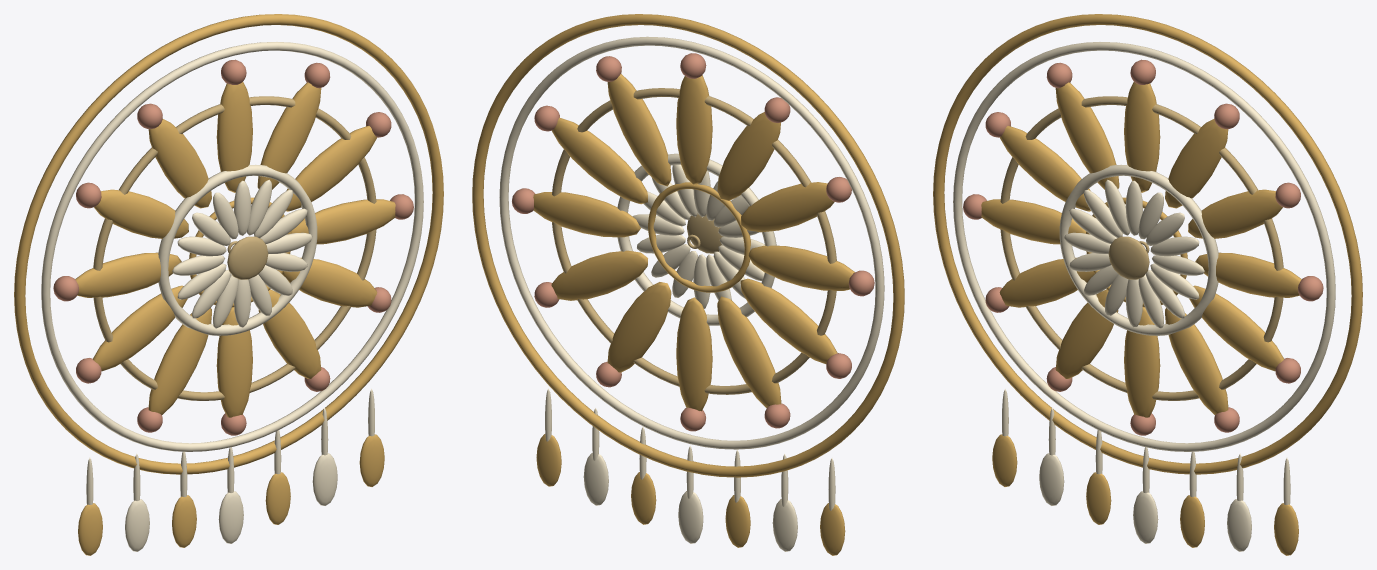
File: mandala-conceitual.glb
3 renders of one model, left to right at view 1: azimuth 30°, elevation 25°; view 2: azimuth 150°, elevation 25°; view 3: azimuth 330°, elevation 25°, orthographic.
Bounding box in the file's own units: 0.42 × 0.489 × 0.043.
